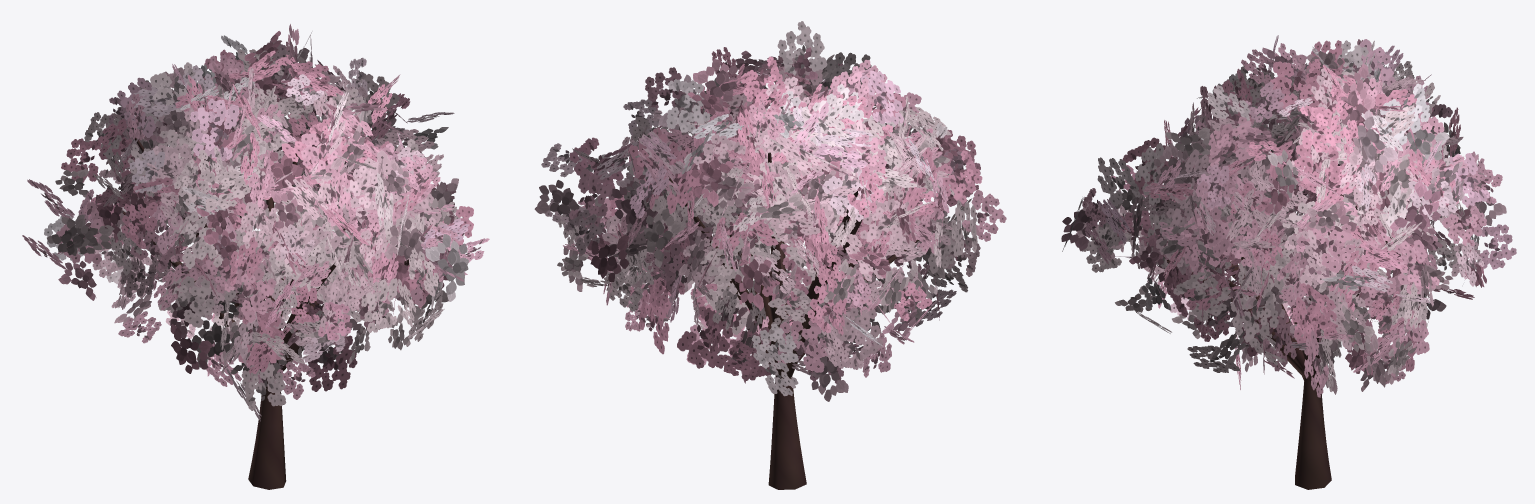
Rendered from cherry_0.glb.
3 views of the same model, side by side, from view 1: azimuth 30°, elevation 25°; view 2: azimuth 150°, elevation 25°; view 3: azimuth 270°, elevation 25° (orthographic).
Parts seen in each view (by area): view 1: cherry_0; view 2: cherry_0; view 3: cherry_0.
Part boxes in pixels (x1,y1,x2,y2): cherry_0: (22,24,489,489); cherry_0: (534,21,1006,489); cherry_0: (1061,35,1516,489).
Bounding box in the file's own units: 1 × 1 × 0.9952.
2 materials, 1 textured.
